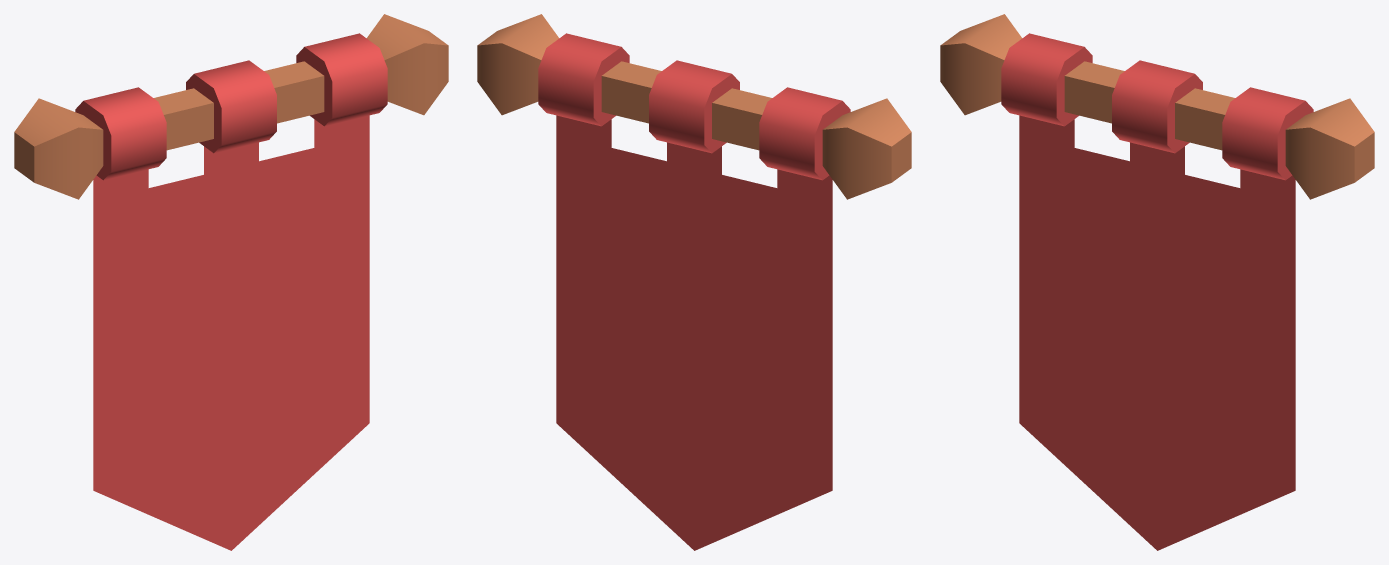
The model's file is banner.glb.
3 renders of one model, left to right at view 1: azimuth 30°, elevation 25°; view 2: azimuth 150°, elevation 25°; view 3: azimuth 330°, elevation 25°, orthographic.
Parts seen in each view (by area): view 1: banner; view 2: banner; view 3: banner.
Part boxes in pixels (left/top/right/bottom): banner: left=14, top=14, right=448, bottom=550; banner: left=477, top=14, right=911, bottom=550; banner: left=940, top=14, right=1374, bottom=550.
Bounding box in the file's own units: 0.6 × 0.6644 × 0.1.
